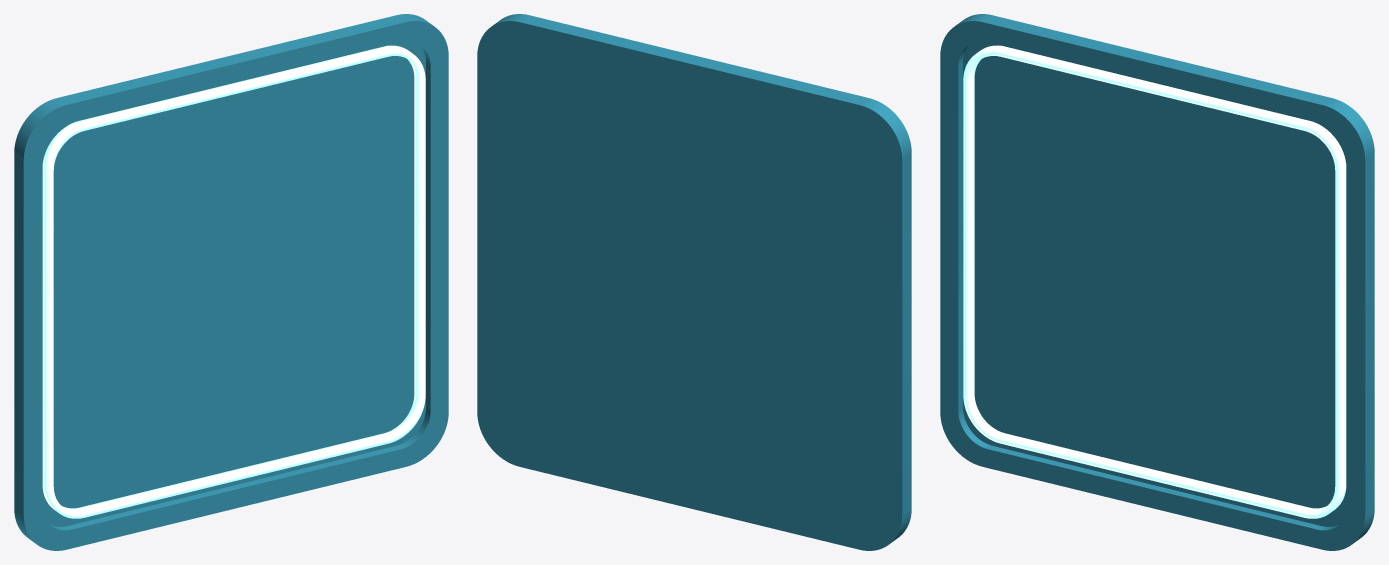
Rendered from icon_card.glb.
3 views of the same model, side by side, from view 1: azimuth 30°, elevation 25°; view 2: azimuth 150°, elevation 25°; view 3: azimuth 330°, elevation 25° (orthographic).
Visible parts, largest first — view 1: Plane; view 2: Plane; view 3: Plane.
Part boxes in pixels (<box>): Plane: <box>14,14,448,550</box>; Plane: <box>477,14,911,550</box>; Plane: <box>940,14,1374,550</box>.
Bounding box in the file's own units: 2 × 2 × 0.08.
